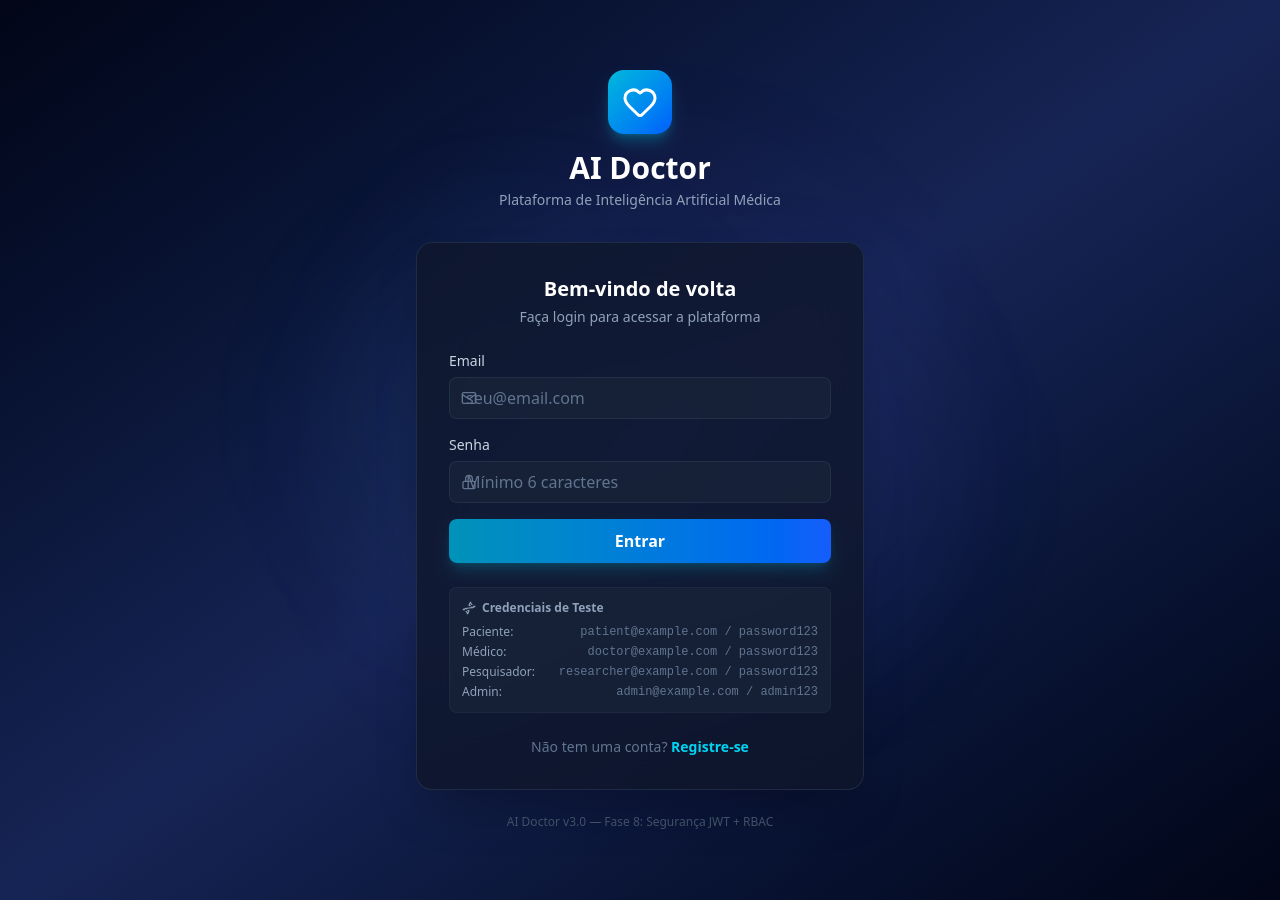
LoginPage › shows error message when login fails
In the field with placeholder "seu@email.com": [640, 398] box left=449, top=377, right=831, bottom=419, type "wrong@email.com"
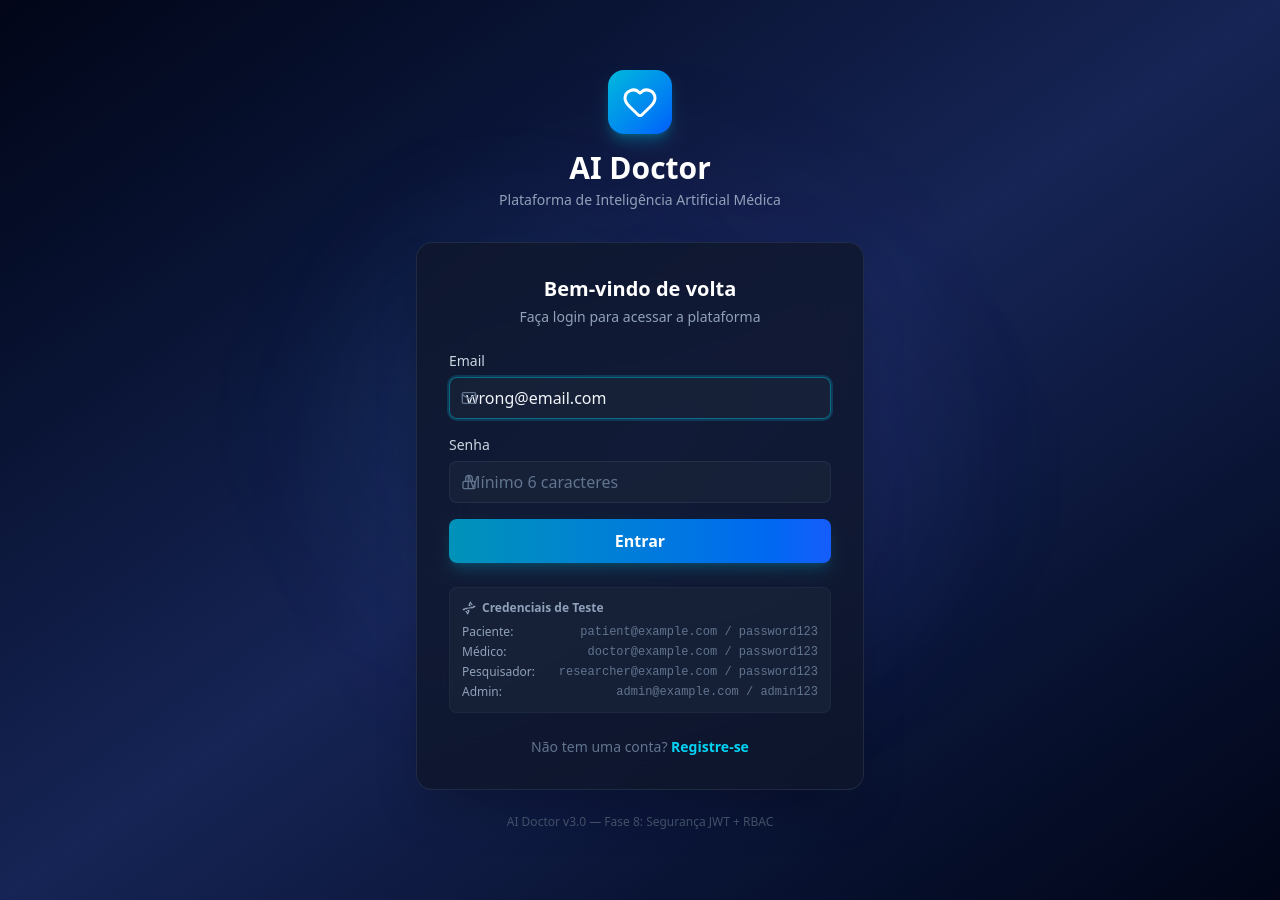
In the password field with placeholder "Mínimo 6 caracteres": [640, 482] box left=449, top=461, right=831, bottom=503, type "wrongpass"
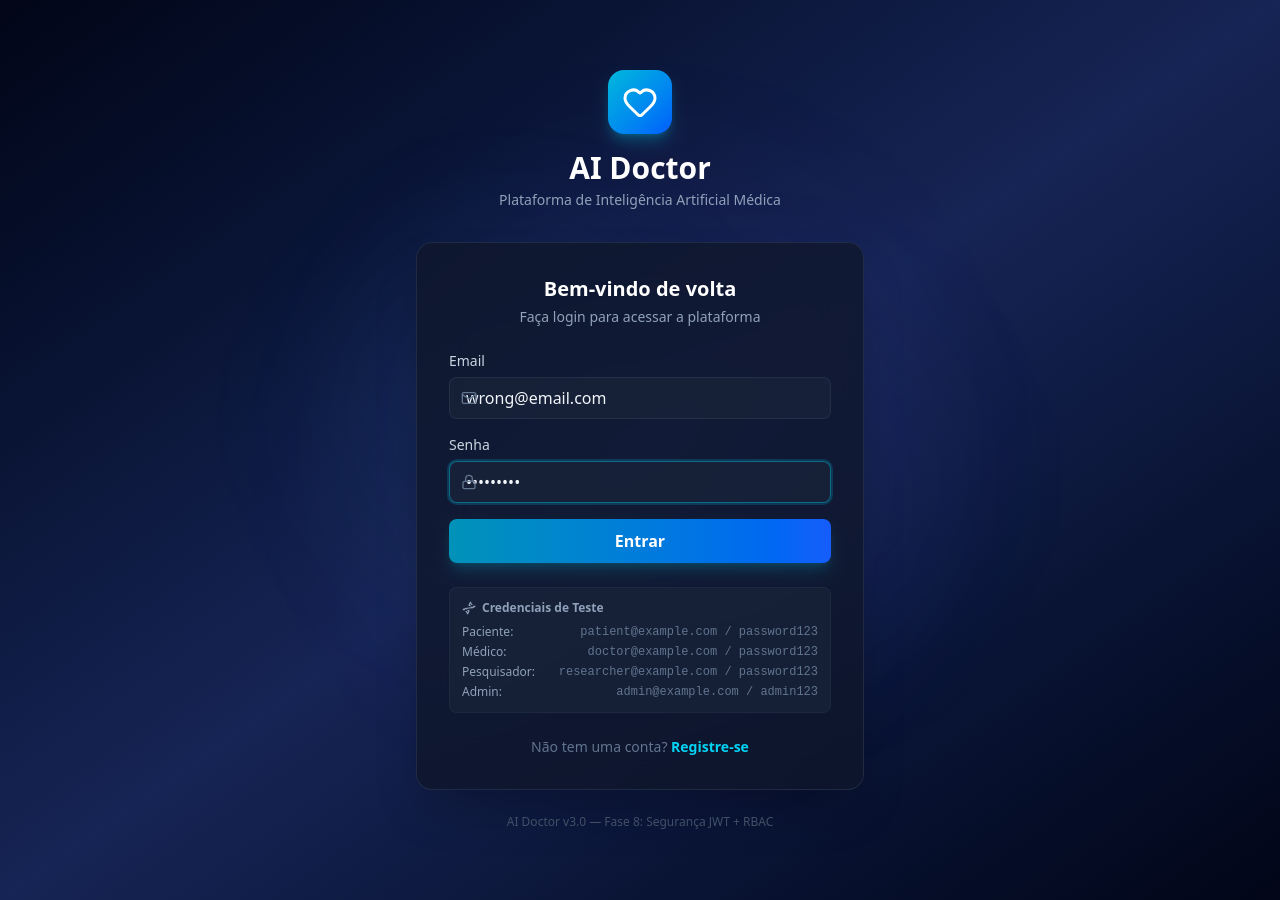
Click the button "Entrar": [640, 541] box left=449, top=519, right=831, bottom=563
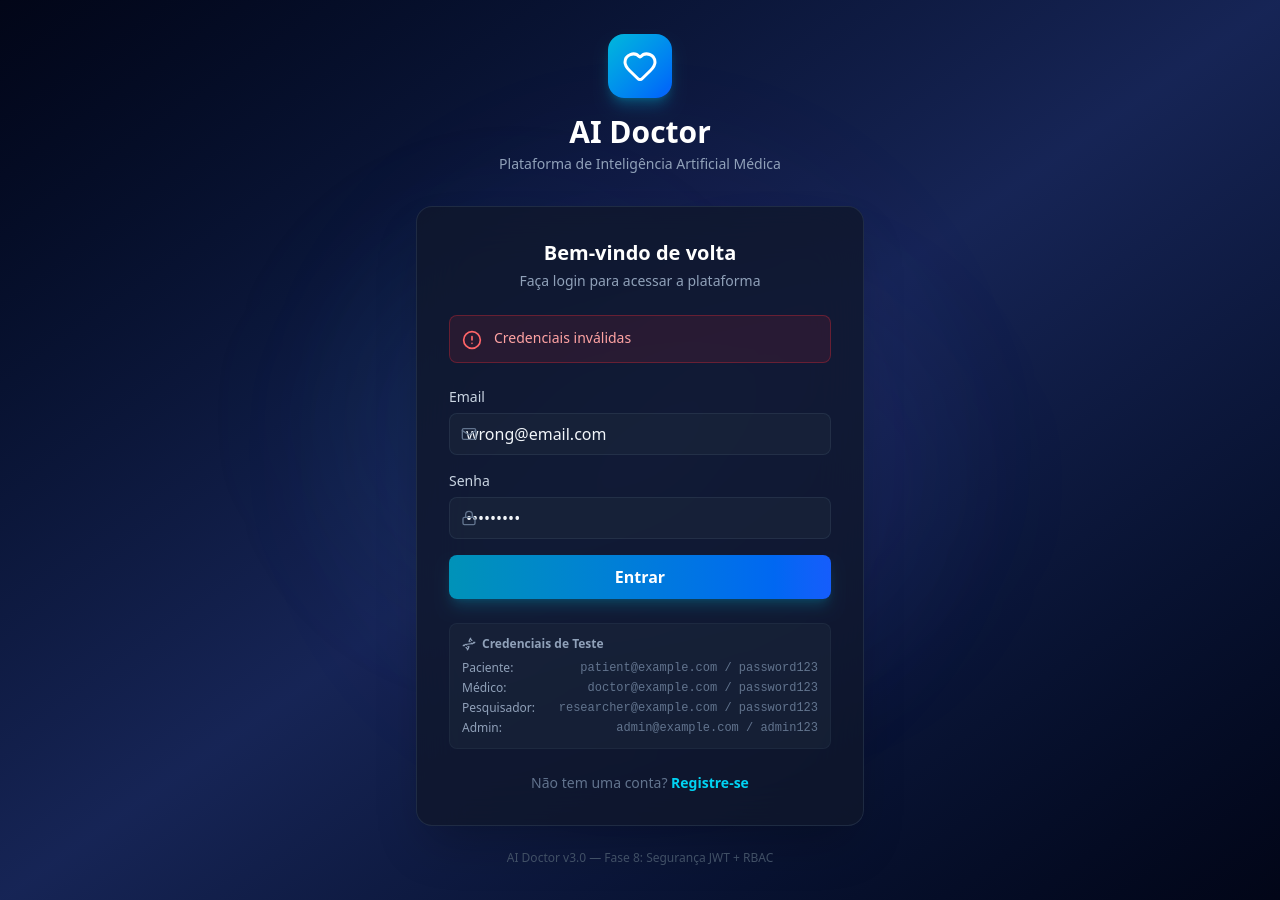
Expected: the text "Credenciais inválidas" is shown, left=494, top=328, right=631, bottom=348
